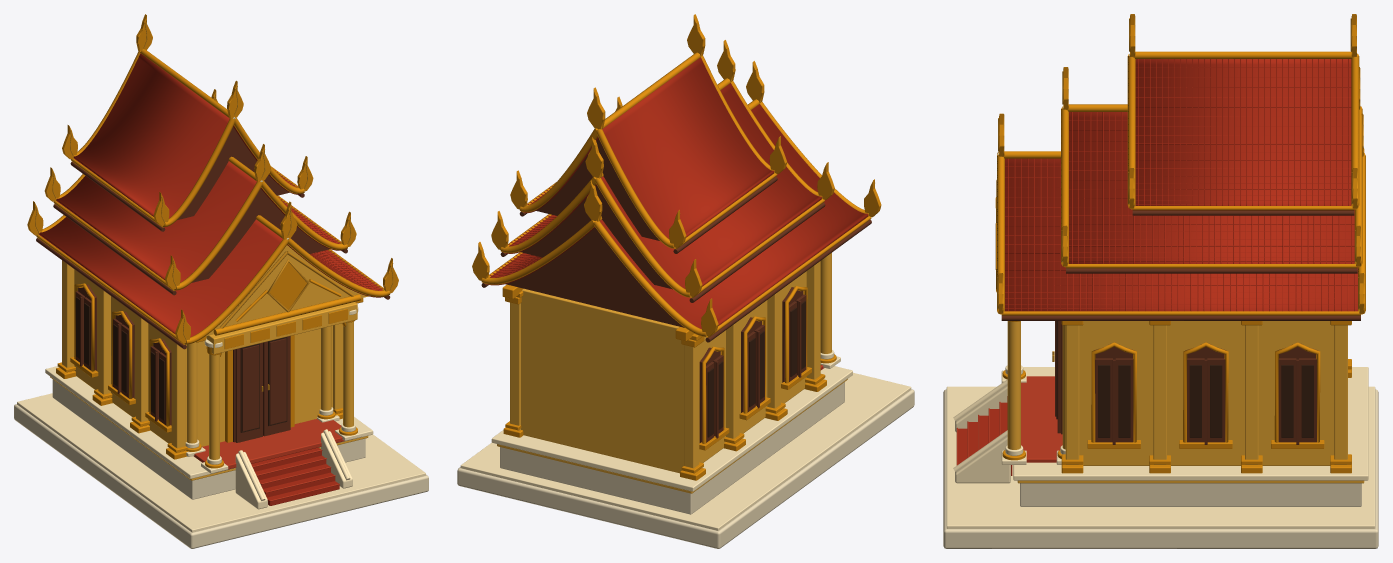
File: soc-trang.glb
The picture shows the model from 3 angles, left to right: view 1: azimuth 30°, elevation 25°; view 2: azimuth 150°, elevation 25°; view 3: azimuth 270°, elevation 25°; orthographic projection. The views are drawn at different scales.
Visible parts, largest first — view 1: CHUA_KHLEANG_V2; view 2: CHUA_KHLEANG_V2; view 3: CHUA_KHLEANG_V2.
Boxes of the visible parts, x1,y1,x2,y2 form: CHUA_KHLEANG_V2: (14, 14, 428, 548); CHUA_KHLEANG_V2: (457, 14, 914, 548); CHUA_KHLEANG_V2: (943, 14, 1378, 548).
Size of the model in its own units: 0.8668 by 1.33 by 1.12.
